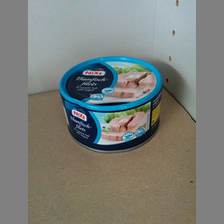fish: (58, 56, 163, 153)
